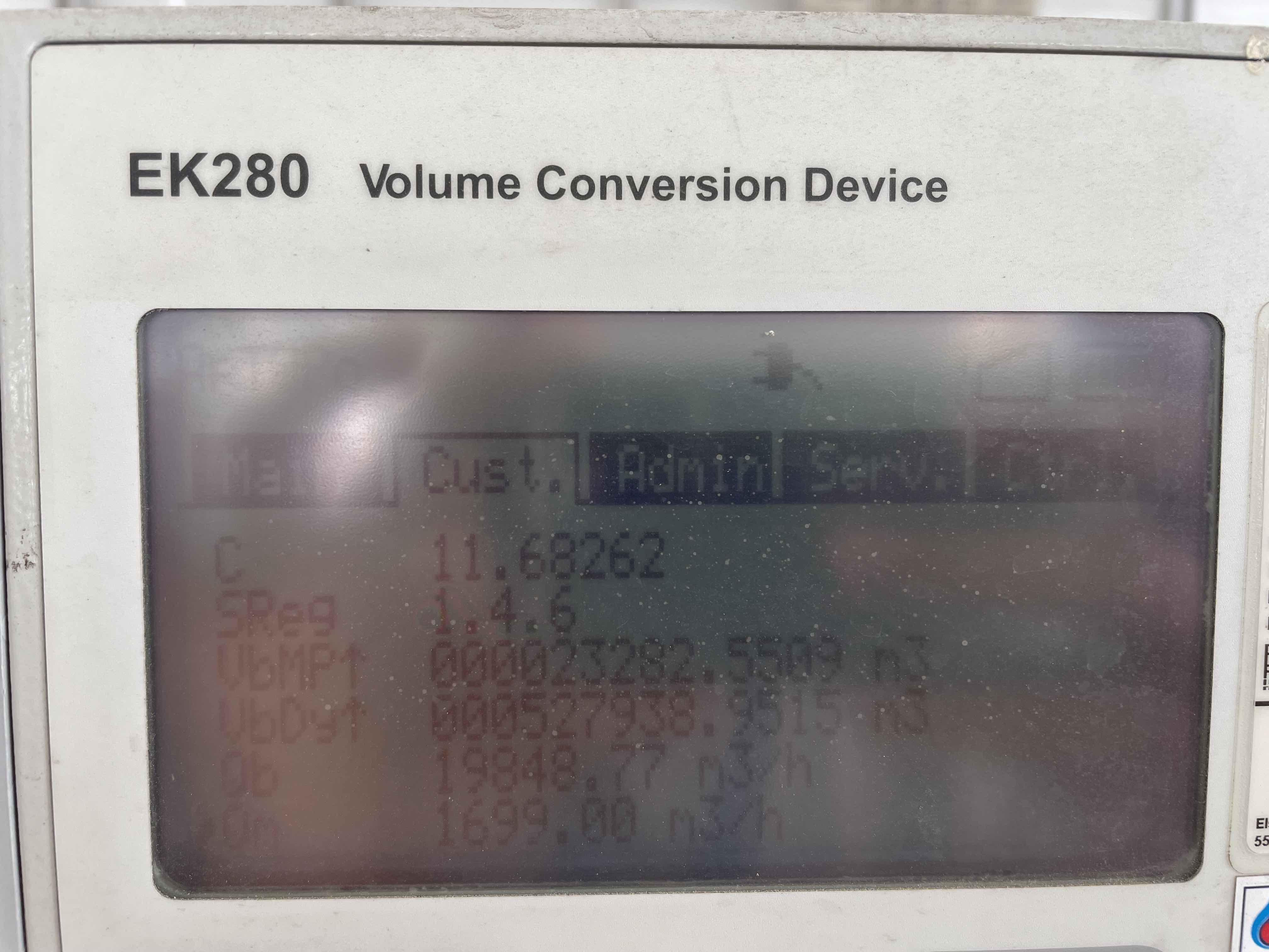digital_screen: (142, 310, 1221, 891)
